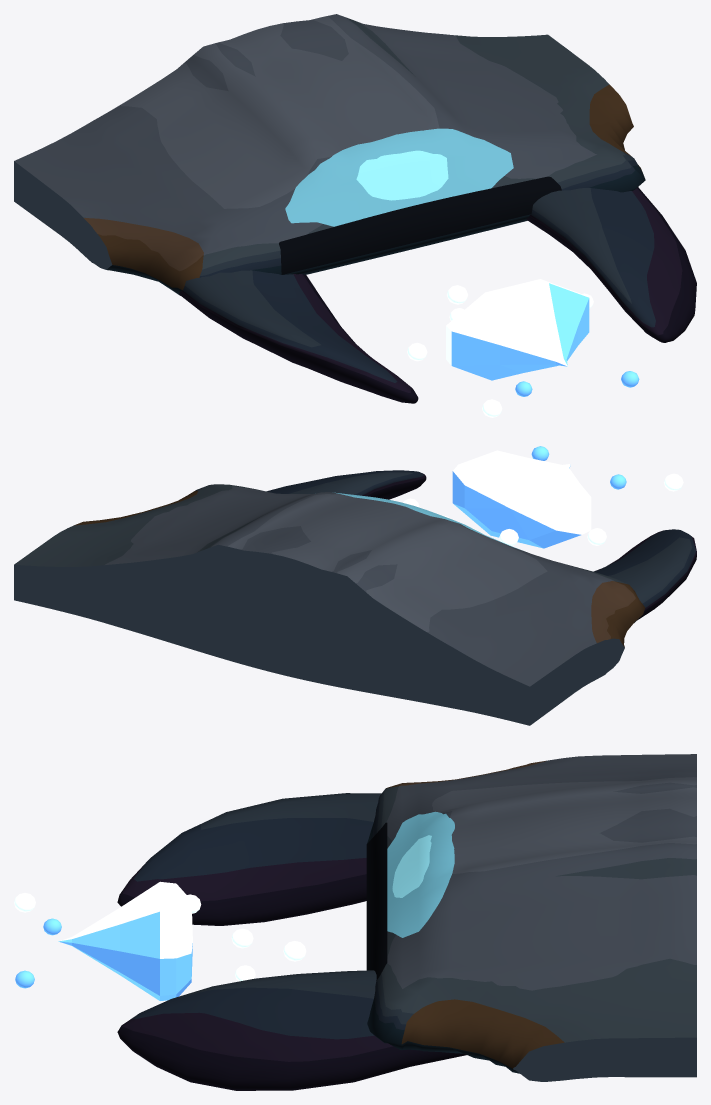
Rendered from coral_manta_head_275.glb.
The picture shows the model from 3 angles, top to bottom: view 1: azimuth 30°, elevation 25°; view 2: azimuth 150°, elevation 25°; view 3: azimuth 270°, elevation 25°; orthographic projection. The views are drawn at different scales.
Parts seen in each view (by area): view 1: coral_manta_head_275; view 2: coral_manta_head_275; view 3: coral_manta_head_275.
Part boxes in pixels (x1,y1,x2,y2): coral_manta_head_275: (14, 14, 696, 417); coral_manta_head_275: (14, 446, 696, 725); coral_manta_head_275: (14, 754, 696, 1090).
Bounding box in the file's own units: 24 × 7.09 × 24.8.
